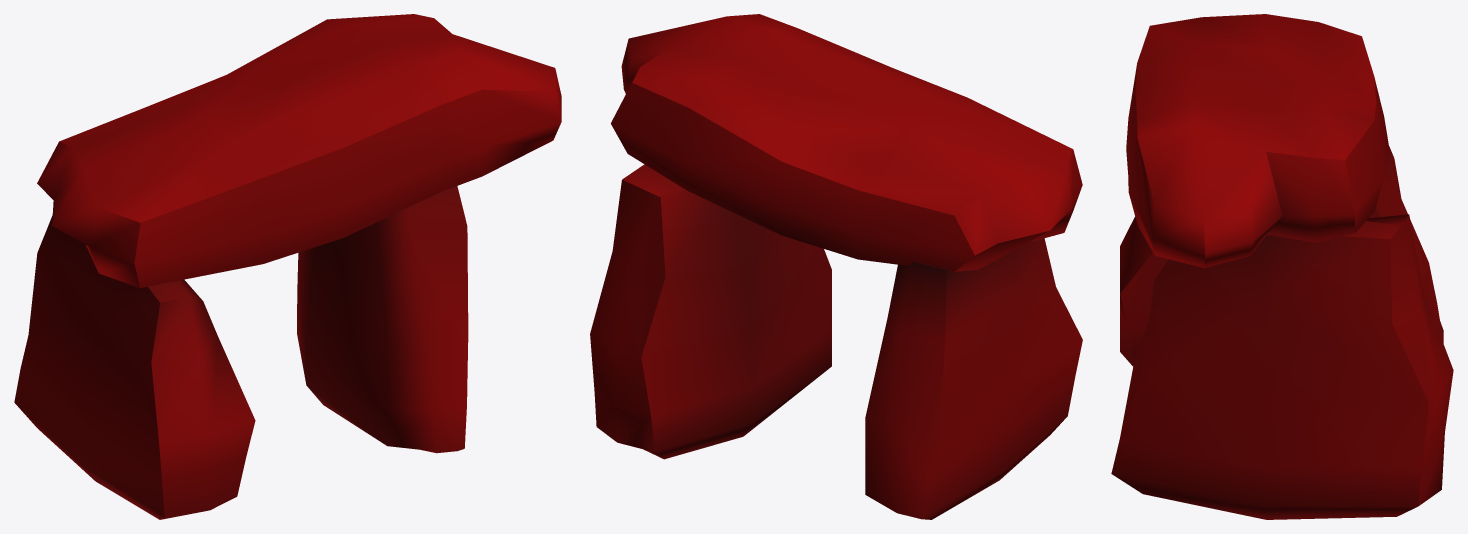
File: geology-carvedstone-dolmen_v10.fbx
The picture shows the model from 3 angles, left to right: view 1: azimuth 30°, elevation 25°; view 2: azimuth 150°, elevation 25°; view 3: azimuth 270°, elevation 25°; orthographic projection. The views are drawn at different scales.
Visible parts, largest first — view 1: Dolmen_v10; view 2: Dolmen_v10; view 3: Dolmen_v10.
Part boxes in pixels (x1,y1,x2,y2): Dolmen_v10: (14,14,561,519); Dolmen_v10: (590,14,1082,519); Dolmen_v10: (1111,14,1453,519).
Size of the model in its own units: 11.39 by 8.64 by 6.84.
